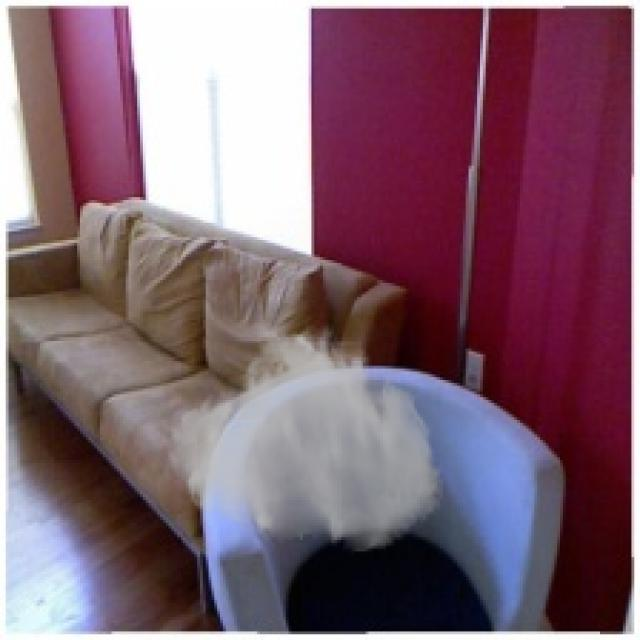smoke: (166, 317, 446, 554)
